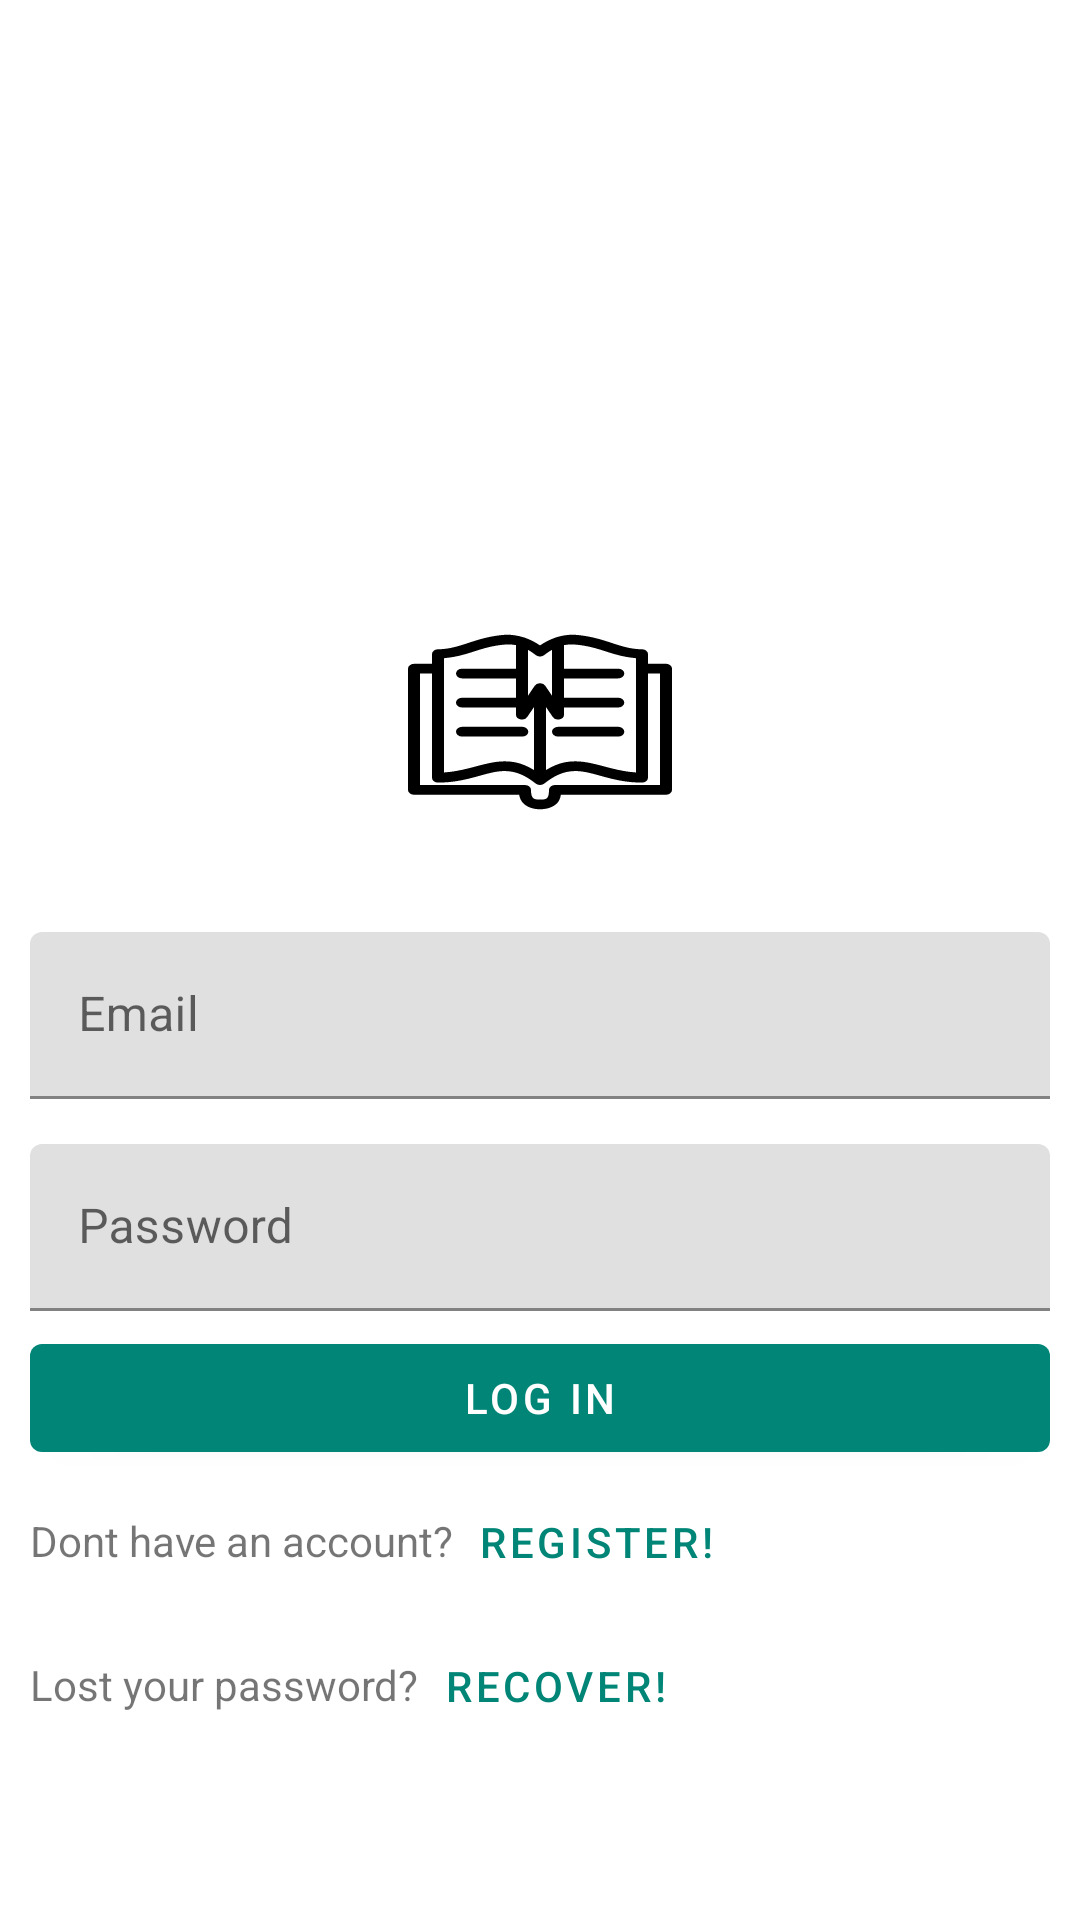

Point at icon controls on the screen. Image size 1080 × 1920, points as [x,y].
noun recipe book: [540,722]
